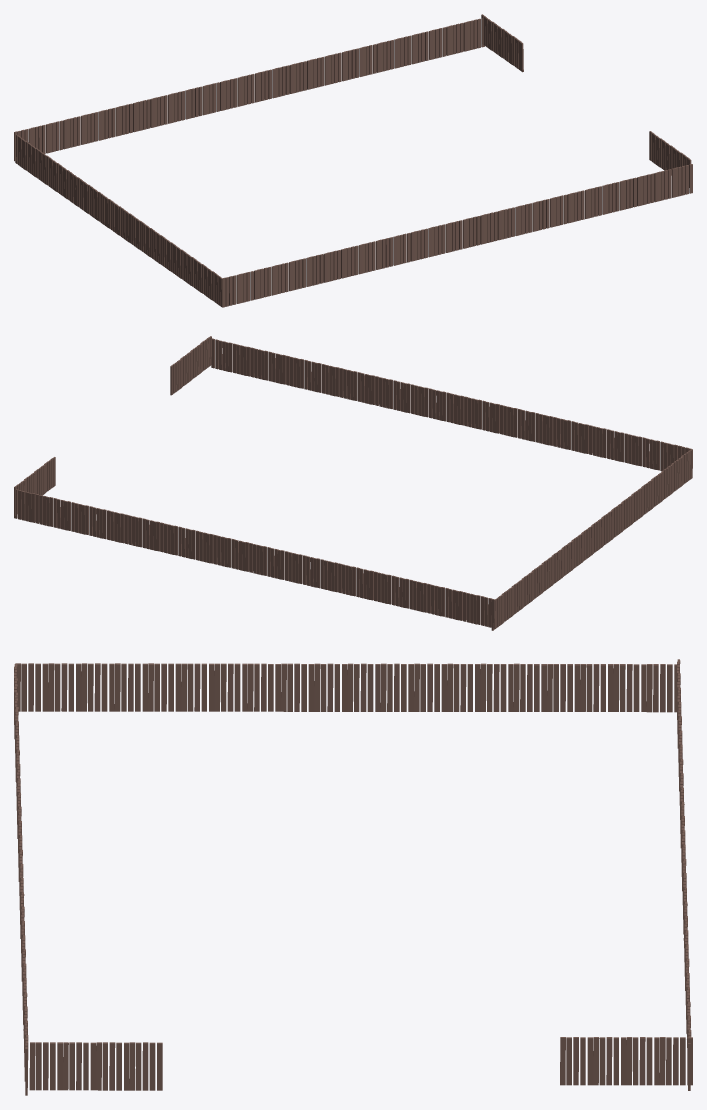
Rendered from TPCS_Zaun_004.fbx.
3 views of the same model, one above another, from view 1: azimuth 30°, elevation 25°; view 2: azimuth 150°, elevation 25°; view 3: azimuth 270°, elevation 25° (orthographic). The views are drawn at different scales.
Visible parts, largest first — view 1: Cube.007; view 2: Cube.007; view 3: Cube.007.
Boxes of the visible parts, x1,y1,x2,y2 form: Cube.007: (14, 14, 692, 307); Cube.007: (14, 336, 692, 630); Cube.007: (14, 659, 692, 1095).
Bounding box in the file's own units: 1498 × 95.41 × 1118.
